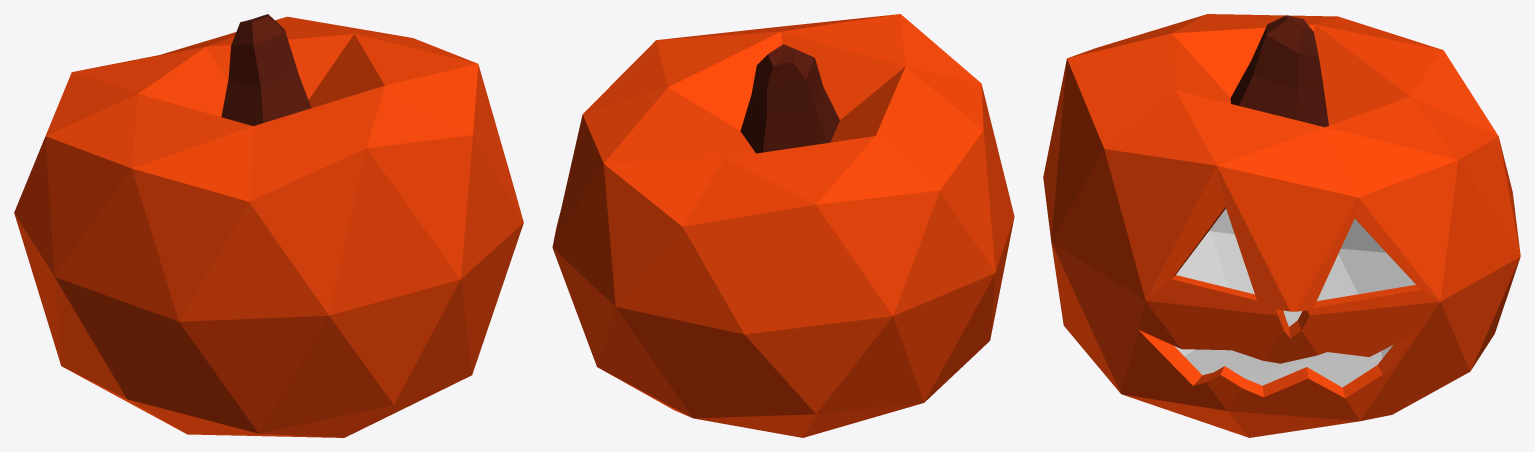
Rendered from Pumpkin.obj.
3 renders of one model, left to right at view 1: azimuth 30°, elevation 25°; view 2: azimuth 150°, elevation 25°; view 3: azimuth 270°, elevation 25°, orthographic. The views are drawn at different scales.
Parts seen in each view (by area): view 1: Icosphere; view 2: Icosphere; view 3: Icosphere.
Boxes of the visible parts, x1,y1,x2,y2 form: Icosphere: (14, 14, 523, 437); Icosphere: (552, 14, 1014, 437); Icosphere: (1043, 14, 1520, 437).
Bounding box in the file's own units: 1.99 × 1.62 × 1.93.
